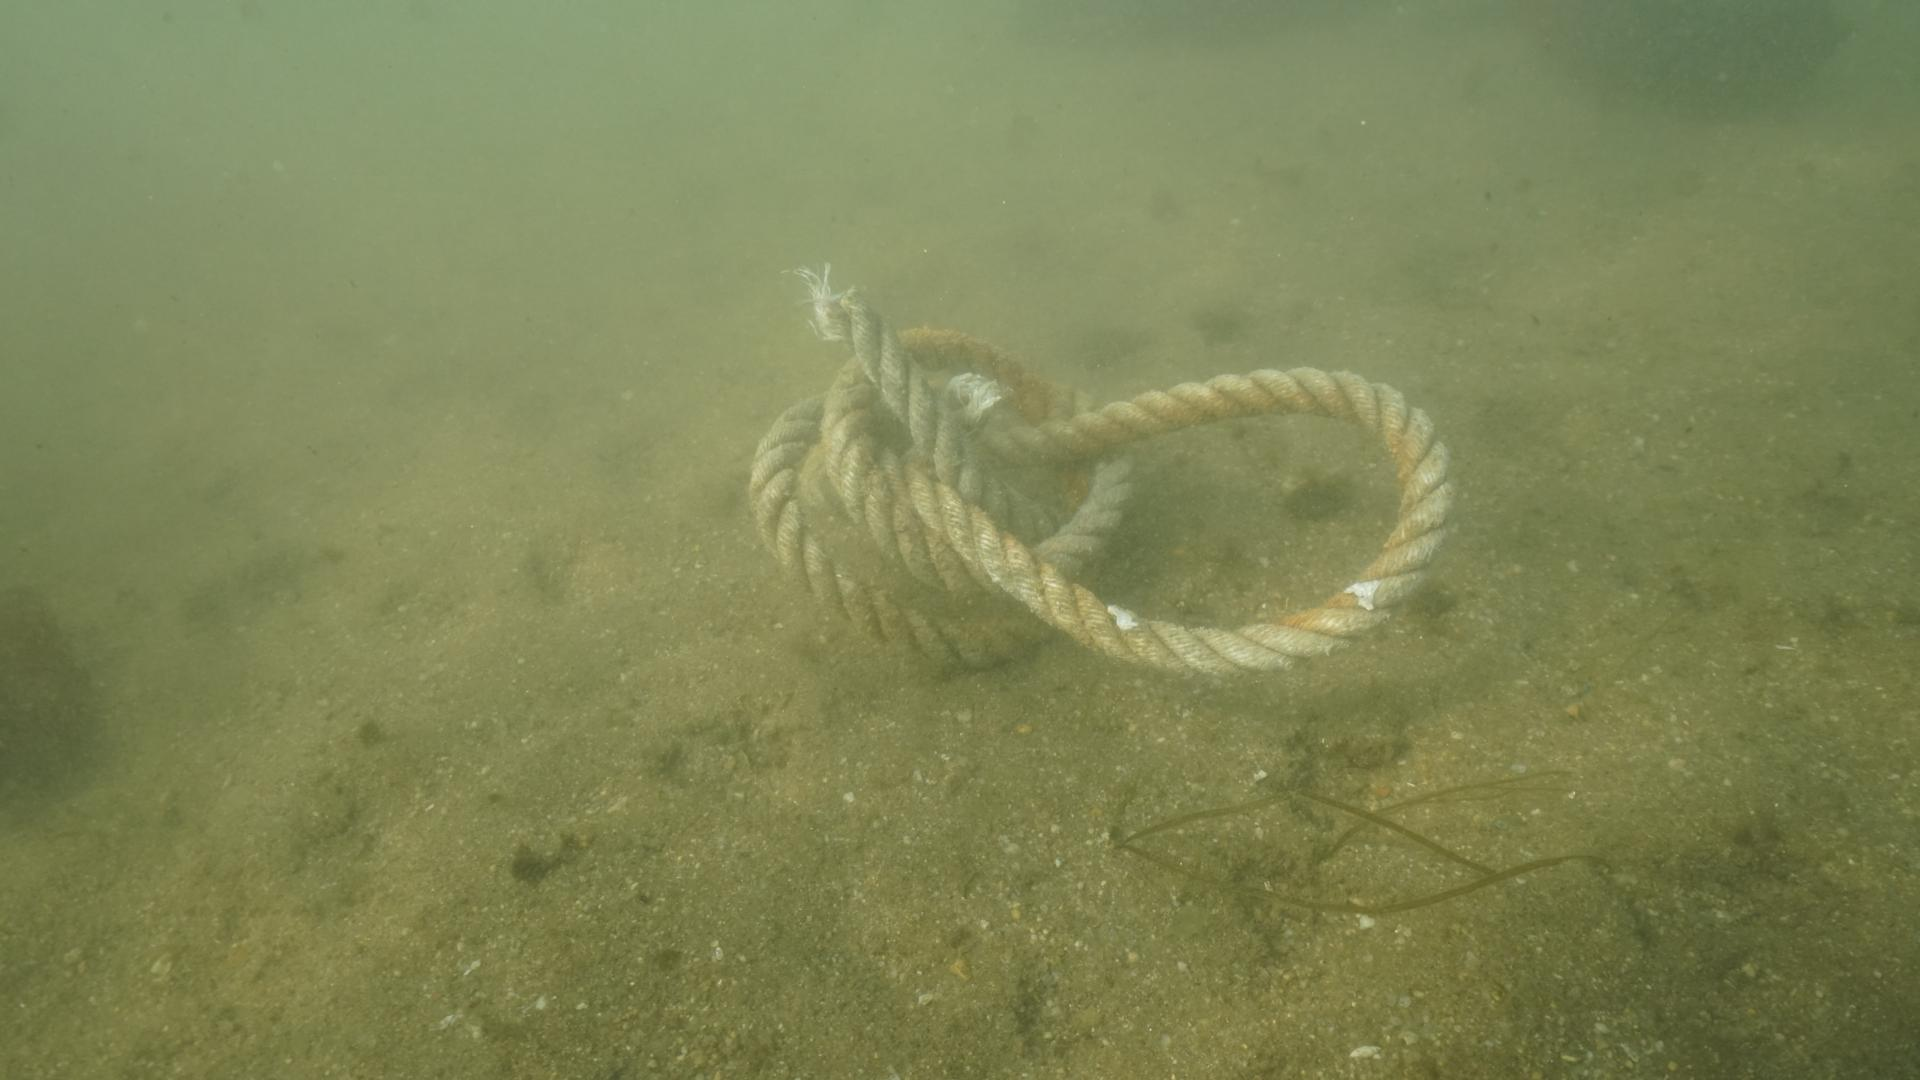bundle of ropes: (744, 295, 1462, 684)
